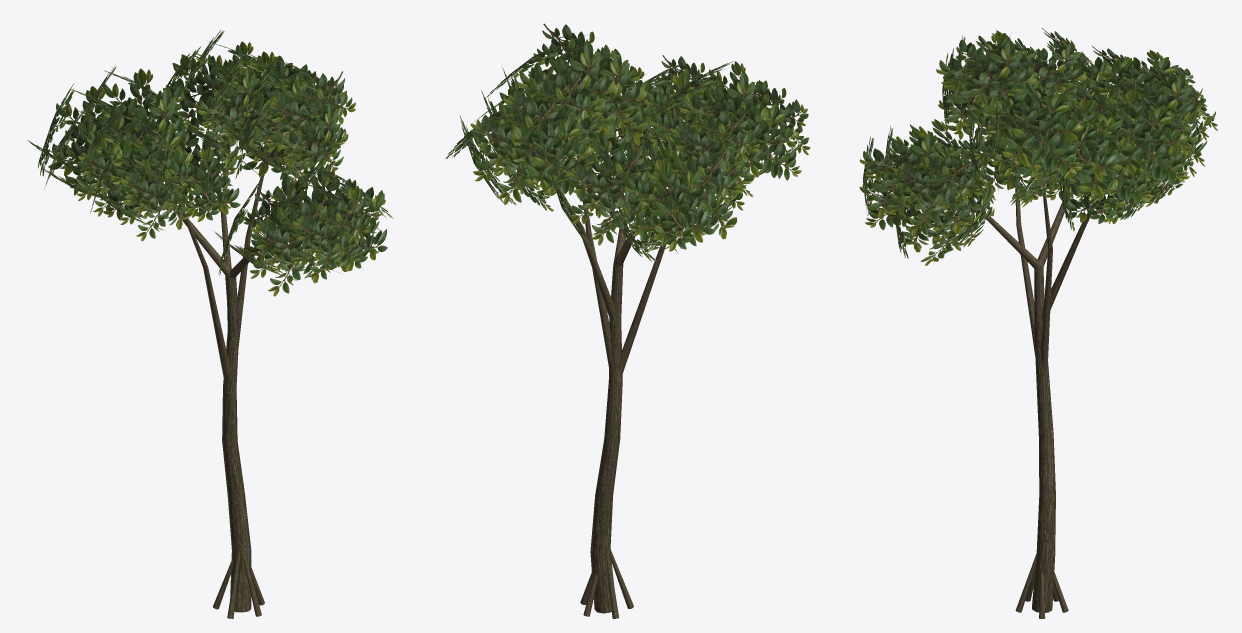
Rendered from tree_lod_02.glb.
The picture shows the model from 3 angles, left to right: view 1: azimuth 30°, elevation 25°; view 2: azimuth 150°, elevation 25°; view 3: azimuth 270°, elevation 25°; orthographic projection. The views are drawn at different scales.
Parts seen in each view (by area): view 1: tree_lod_02; view 2: tree_lod_02; view 3: tree_lod_02.
Boxes of the visible parts, <box> form: tree_lod_02: <box>28,29,393,618</box>; tree_lod_02: <box>445,23,810,618</box>; tree_lod_02: <box>859,28,1217,618</box>.
Size of the model in its own units: 7.11 by 12.87 by 8.06.
Materials: 2 (2 with a texture image).
